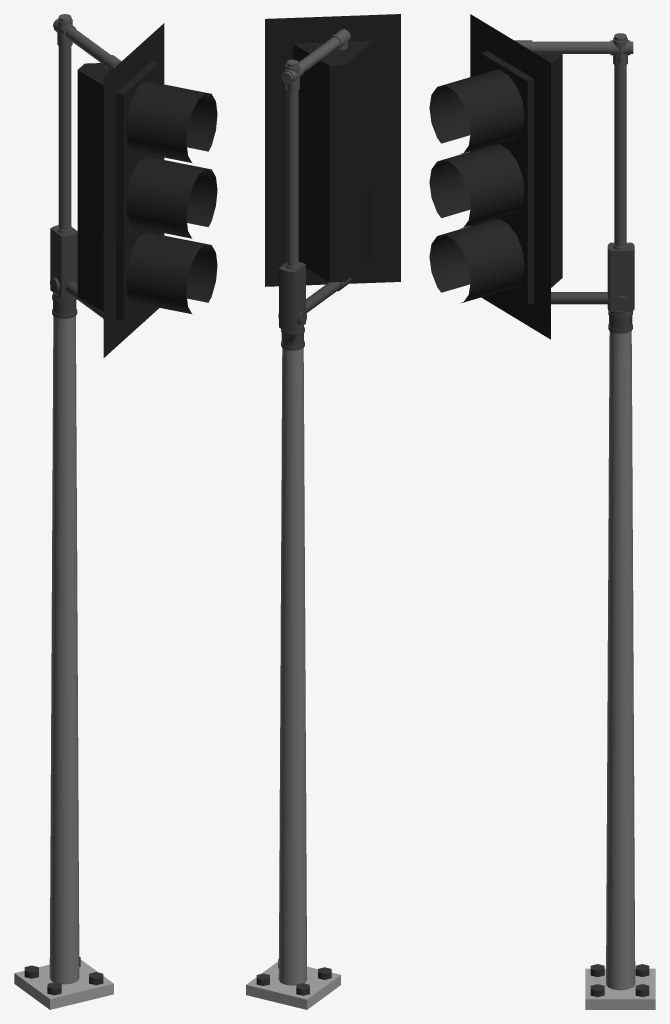
Rendered from signal1.glb.
3 renders of one model, left to right at view 1: azimuth 30°, elevation 25°; view 2: azimuth 150°, elevation 25°; view 3: azimuth 270°, elevation 25°, orthographic. The views are drawn at different scales.
Parts seen in each view (by area): view 1: signal1; view 2: signal1; view 3: signal1.
Boxes of the visible parts, x1,y1,x2,y2 form: signal1: (14, 14, 217, 1009); signal1: (246, 14, 400, 1009); signal1: (429, 14, 655, 1009).
Size of the model in its own units: 0.561 by 4.59 by 0.9772.
1 material, 1 textured.
